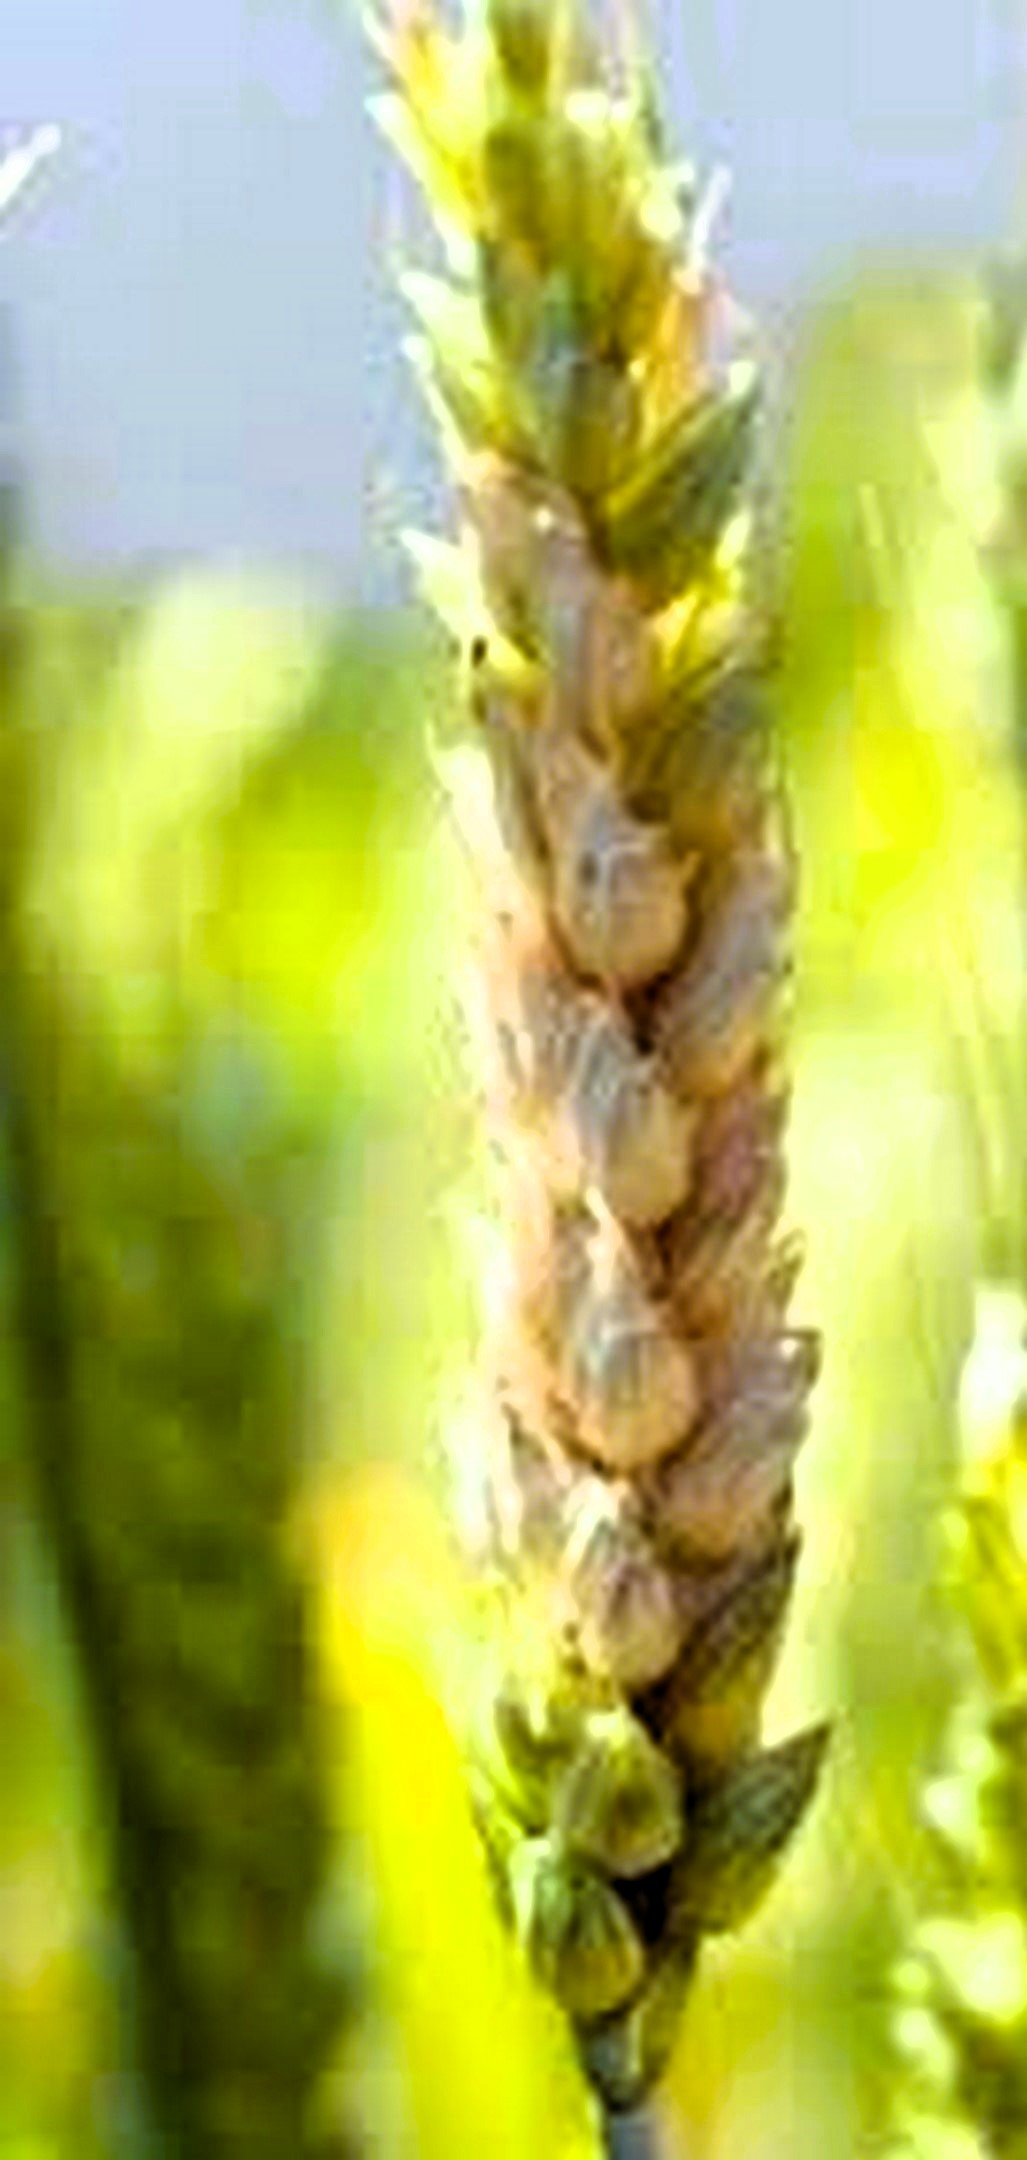Wheat scab: (306, 1, 871, 1982)
